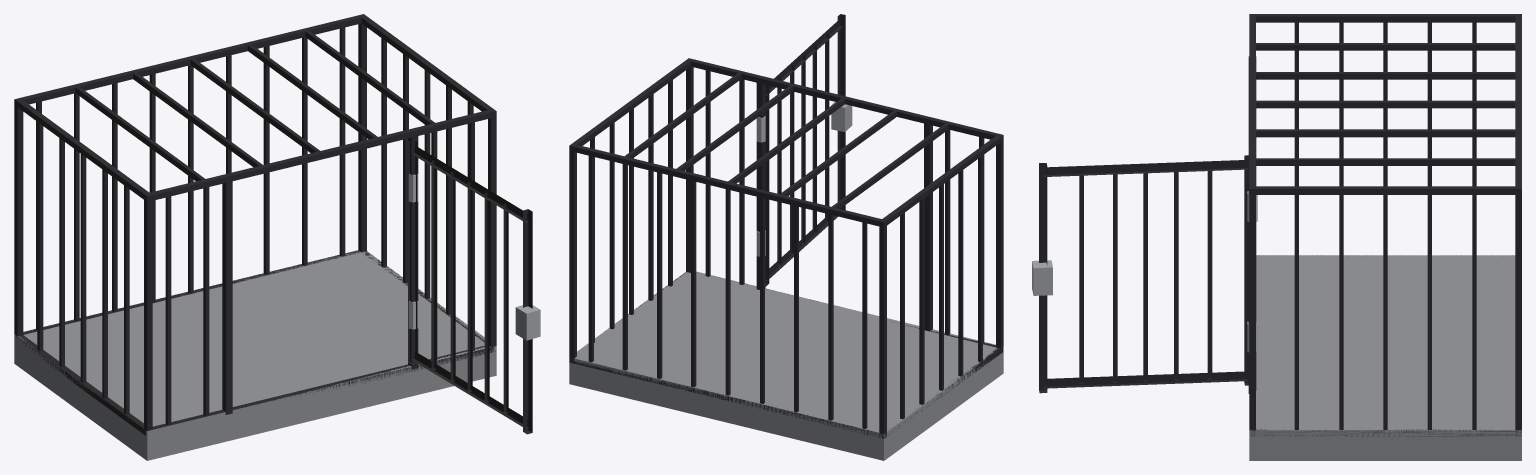
File: FN_Crate_Pet.obj
3 views of the same model, side by side, from view 1: azimuth 30°, elevation 25°; view 2: azimuth 150°, elevation 25°; view 3: azimuth 270°, elevation 25° (orthographic). The views are drawn at different scales.
Visible parts, largest first — view 1: FN_Crate_Pet; view 2: FN_Crate_Pet; view 3: FN_Crate_Pet.
Part boxes in pixels (x1,y1,x2,y2): FN_Crate_Pet: (14,14,540,460); FN_Crate_Pet: (569,14,1003,460); FN_Crate_Pet: (1032,14,1521,460).
Bounding box in the file's own units: 0.76 × 0.55 × 0.8984.
Materials: 1 (1 with a texture image).
